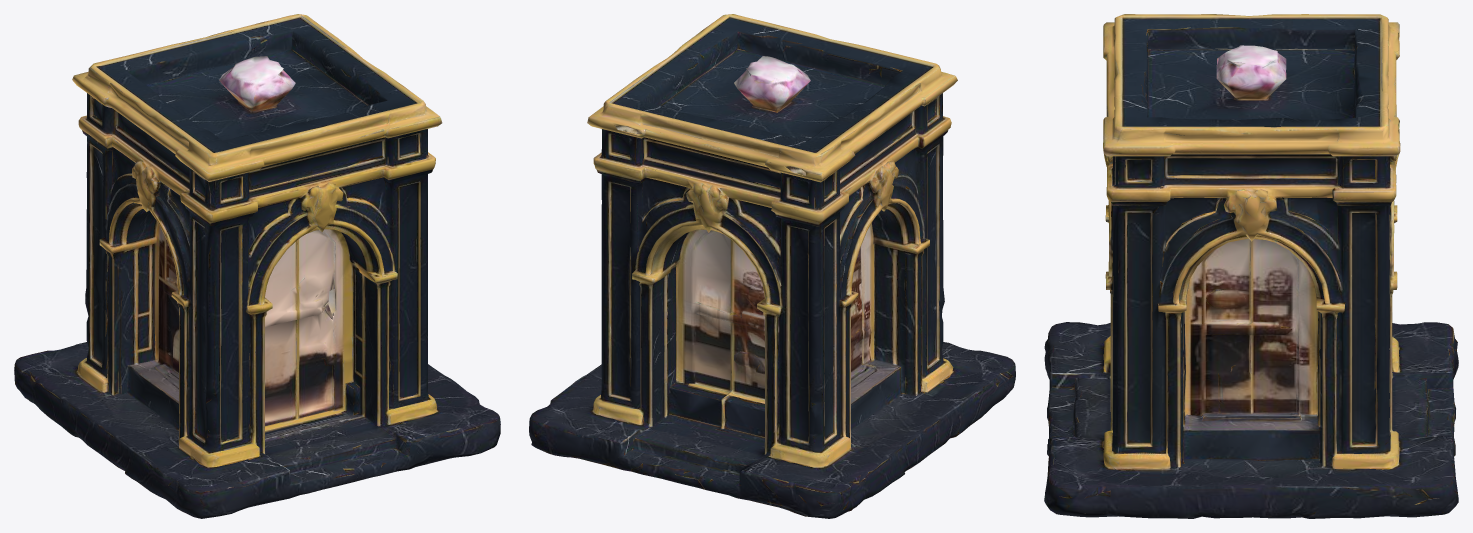
File: upgrade.glb
The picture shows the model from 3 angles, left to right: view 1: azimuth 30°, elevation 25°; view 2: azimuth 150°, elevation 25°; view 3: azimuth 270°, elevation 25°; orthographic projection. The views are drawn at different scales.
Visible parts, largest first — view 1: Mesh_0; view 2: Mesh_0; view 3: Mesh_0.
Part boxes in pixels (x1,y1,x2,y2): Mesh_0: (14, 14, 500, 518); Mesh_0: (529, 14, 1015, 518); Mesh_0: (1044, 14, 1458, 518).
Size of the model in its own units: 1.8 by 1.91 by 1.85.
1 material, 1 textured.
